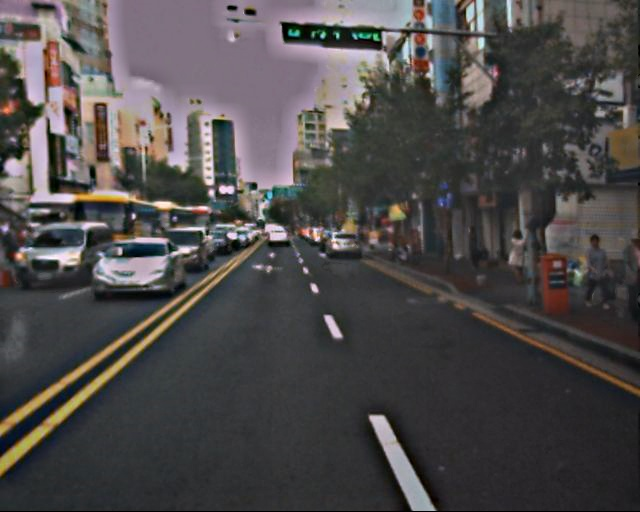person: (606, 232, 640, 321), (573, 231, 607, 314), (505, 228, 530, 290), (464, 222, 484, 271)
